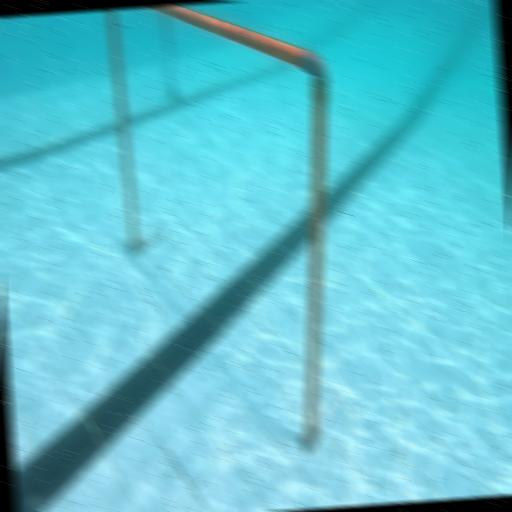gate: (107, 0, 355, 465)
